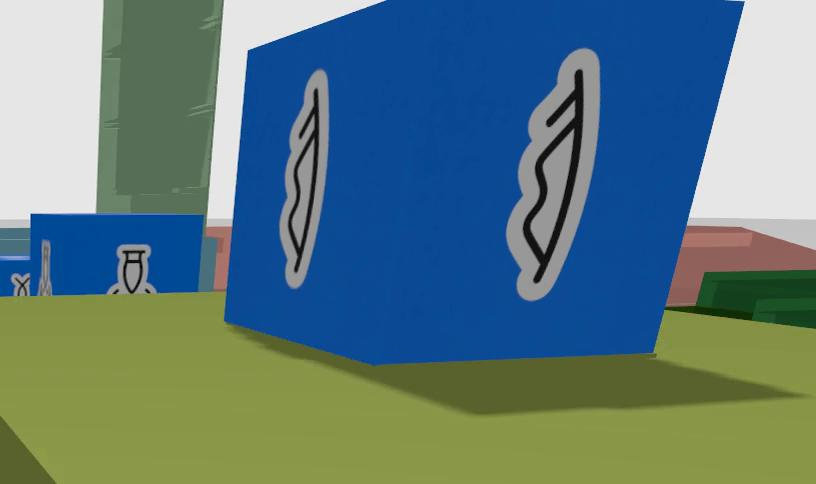KFS_REAL: (506, 48, 599, 300), (278, 69, 328, 288), (108, 244, 156, 294), (36, 239, 52, 295), (11, 273, 30, 295)
